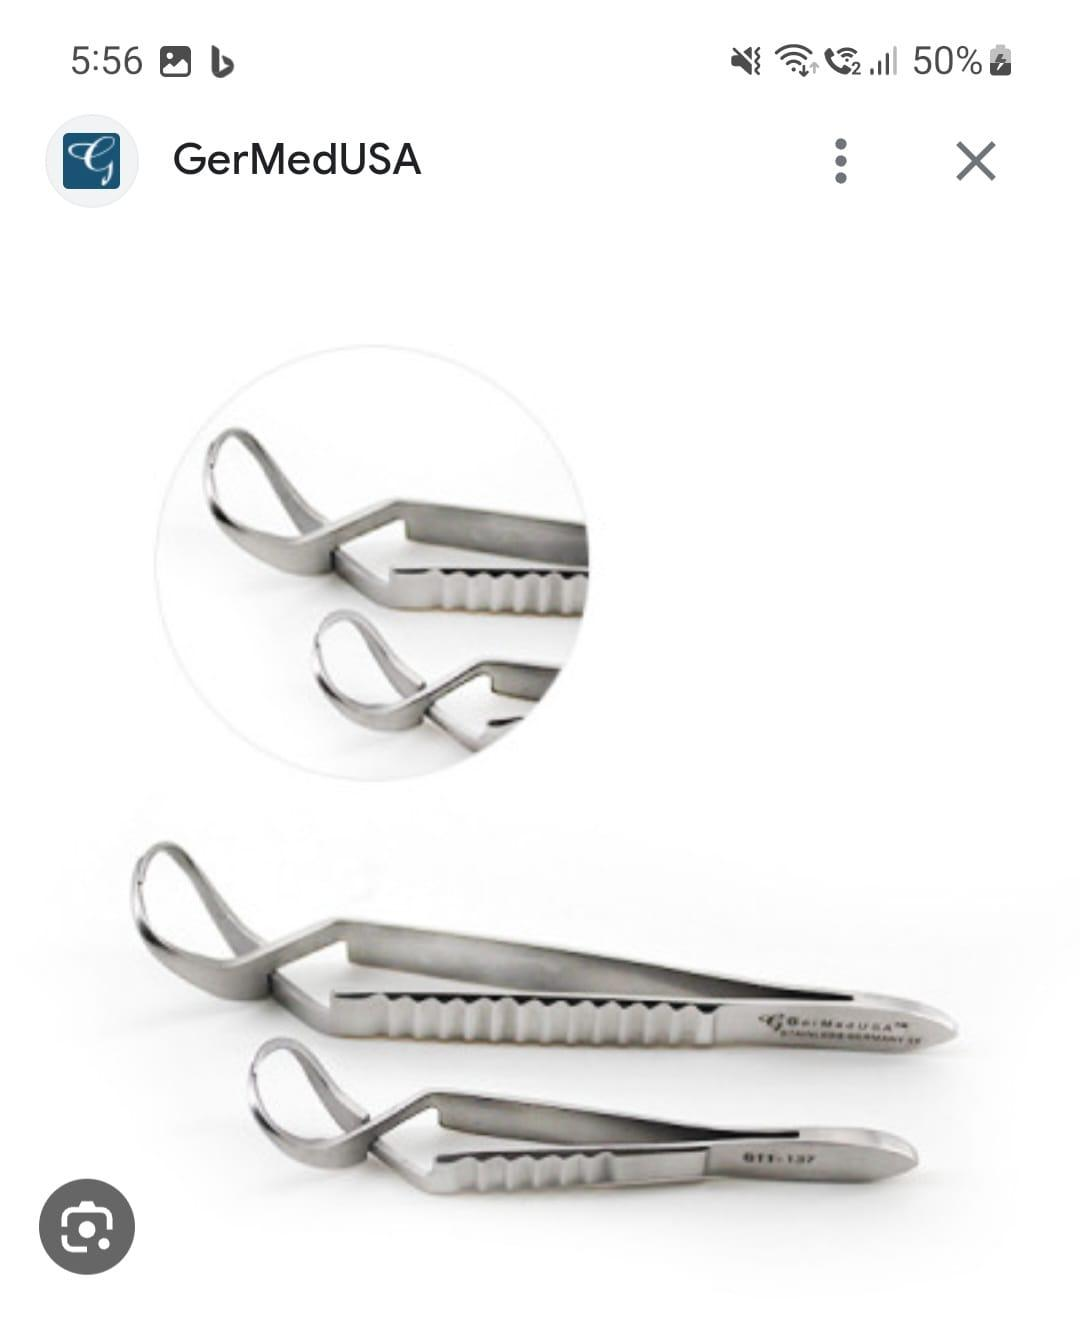Jones Towel Clamp: (122, 828, 974, 1070), (240, 1028, 942, 1192)
